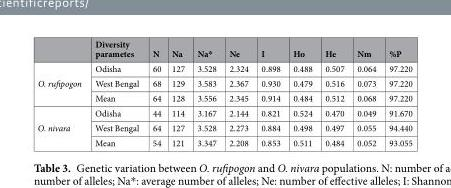table: (36, 37, 411, 148)
table column: (87, 37, 145, 148), (36, 37, 87, 148), (190, 37, 222, 148), (222, 37, 254, 148), (254, 37, 286, 148), (286, 37, 318, 148), (318, 37, 350, 148), (350, 37, 381, 148), (381, 37, 411, 148), (165, 37, 190, 148), (145, 37, 165, 148)
table column header: (36, 37, 411, 61)
table row: (36, 37, 411, 61), (36, 75, 411, 90), (36, 90, 411, 105), (36, 105, 411, 120), (36, 61, 411, 75), (36, 120, 411, 134), (36, 134, 411, 148)
table spanning cell: (36, 61, 87, 105), (36, 105, 87, 148)
